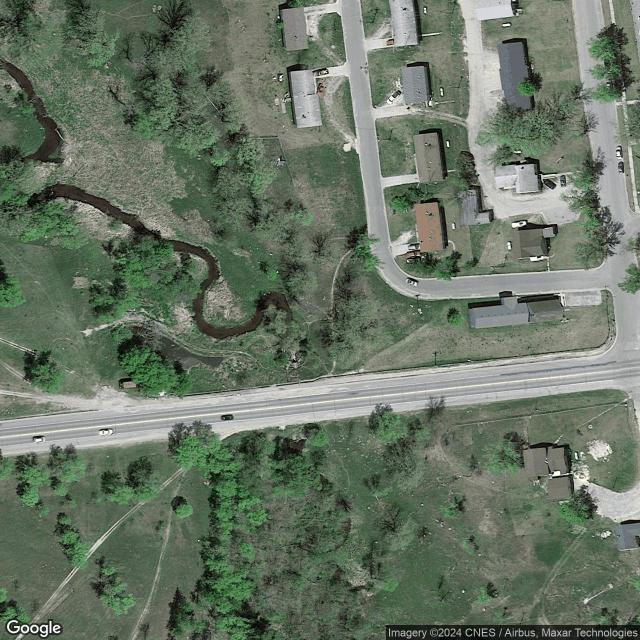Propane: (501, 22, 512, 29), (438, 86, 445, 97), (573, 451, 580, 460), (506, 241, 512, 250), (445, 139, 451, 148), (422, 5, 428, 14), (451, 221, 456, 231), (513, 149, 522, 154)
